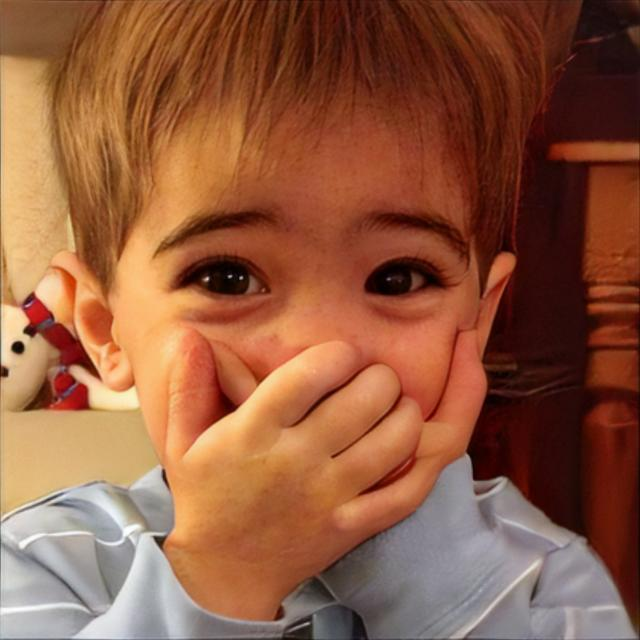happy: (116, 65, 482, 580)
